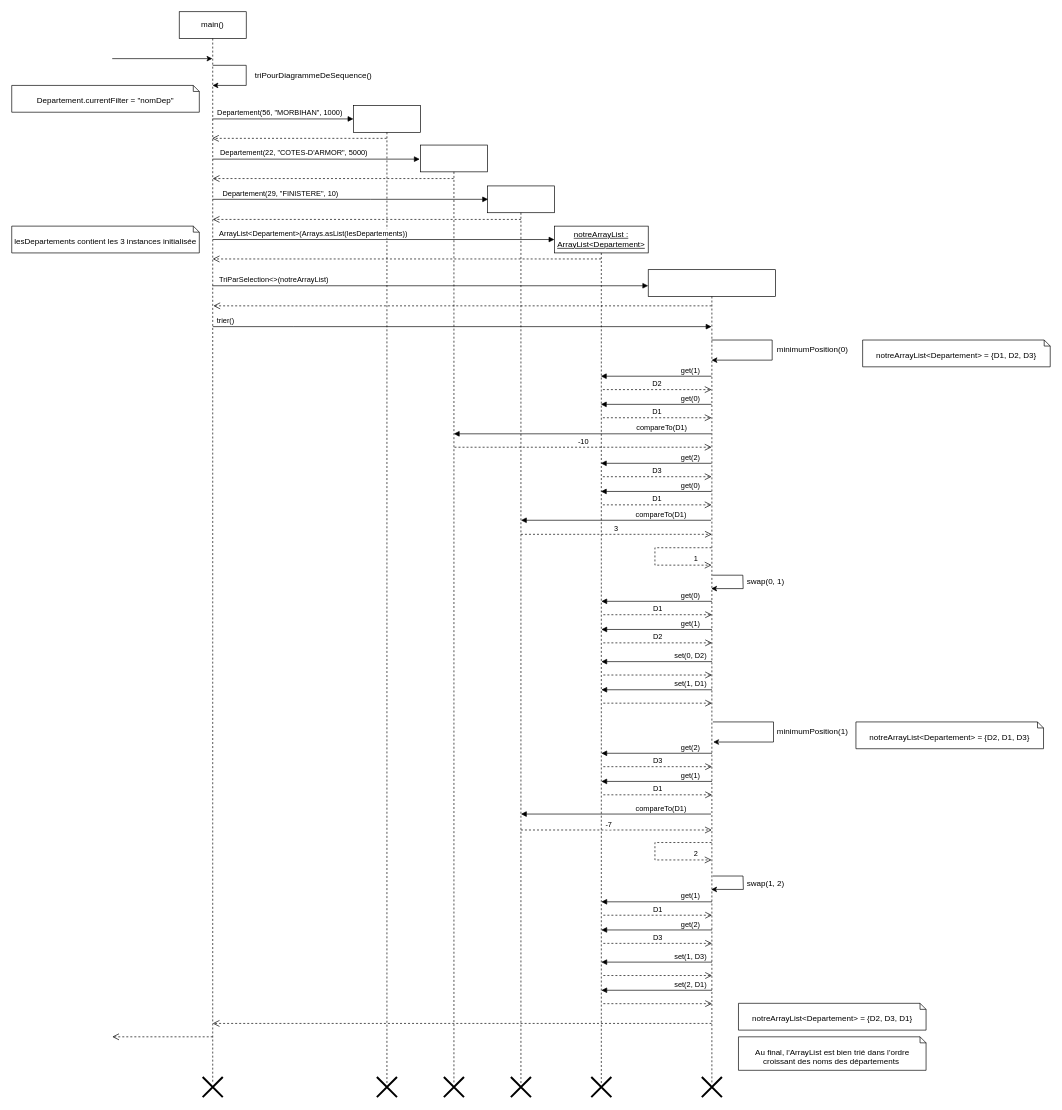
This 1062x1110 diagram has some shape labels left out. The shapes that lost their labels are listed below. From the top down, each one's box as (x1, y1, x2, y2) in pixels, then its label:
(353, 105, 420, 1084): D1 : Departement
(420, 144, 487, 1084): D2 : Departement
(487, 185, 554, 1084): D3 : Departement
(648, 269, 776, 1084): notreTrieur : TriParSelection<Departement>
